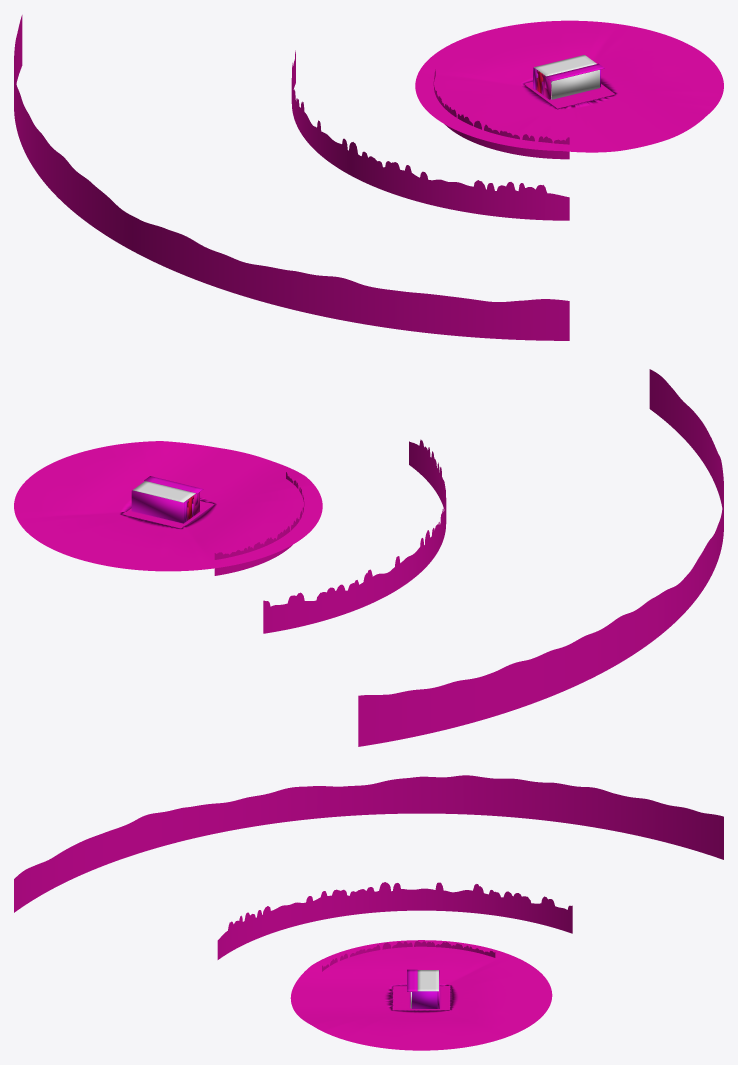
The model's file is court_set_grand_hall.glb.
The picture shows the model from 3 angles, top to bottom: view 1: azimuth 30°, elevation 25°; view 2: azimuth 150°, elevation 25°; view 3: azimuth 270°, elevation 25°; orthographic projection. The views are drawn at different scales.
Parts seen in each view (by area): view 1: Ground, Far2, Far1, Far0, ShadowCaster, Roof; view 2: Ground, Far2, Far1, Walls, Far0, Roof; view 3: Far2, Ground, Far1, Far0, Walls, Roof.
Boxes of the visible parts, x1,y1,x2,y2 form: Ground: (415,20,723,152); Far2: (14,15,569,340); Far1: (291,50,569,220); Far0: (433,69,569,159); ShadowCaster: (545,63,604,99); Roof: (534,55,596,76); Ground: (14,441,322,571); Far2: (358,369,723,746); Far1: (263,439,446,633); Walls: (131,490,199,523); Far0: (214,472,304,575); Roof: (133,481,195,502); Far2: (14,775,723,912); Ground: (290,940,552,1050); Far1: (217,882,572,959); Far0: (322,941,495,971); Walls: (412,970,439,1008); Roof: (417,970,438,991).
Bounding box in the file's own units: 230 × 18.32 × 272.
